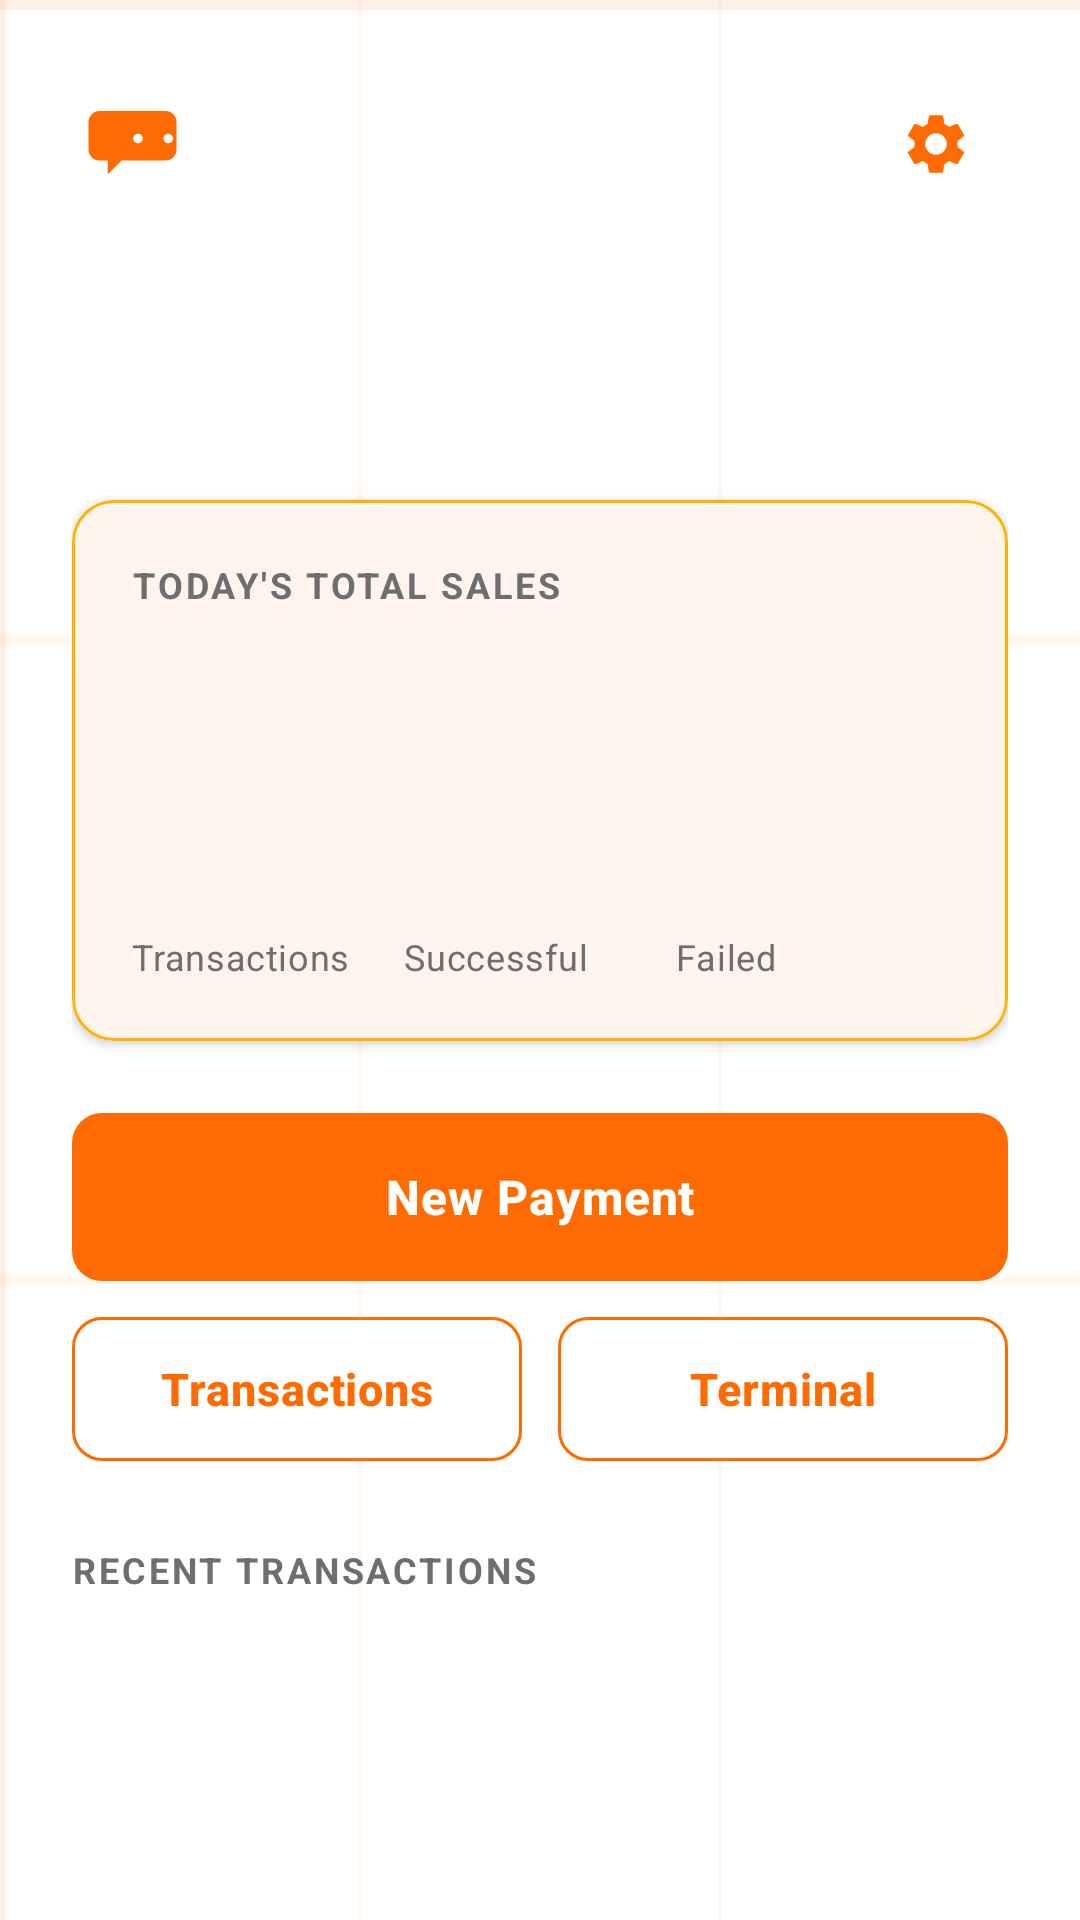

Named icons in this screenshot (1080px×1920px) and their centers, (x=x, y=y):
Settings: (x=936, y=144)
